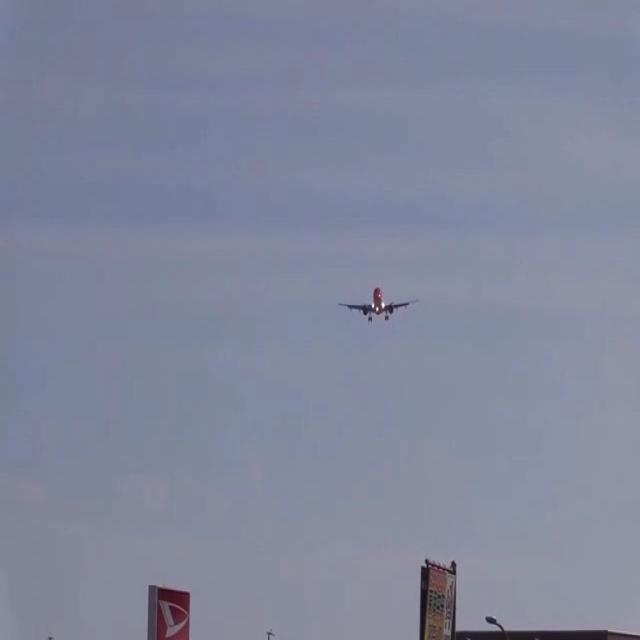AirPlane: (327, 271, 428, 338)
